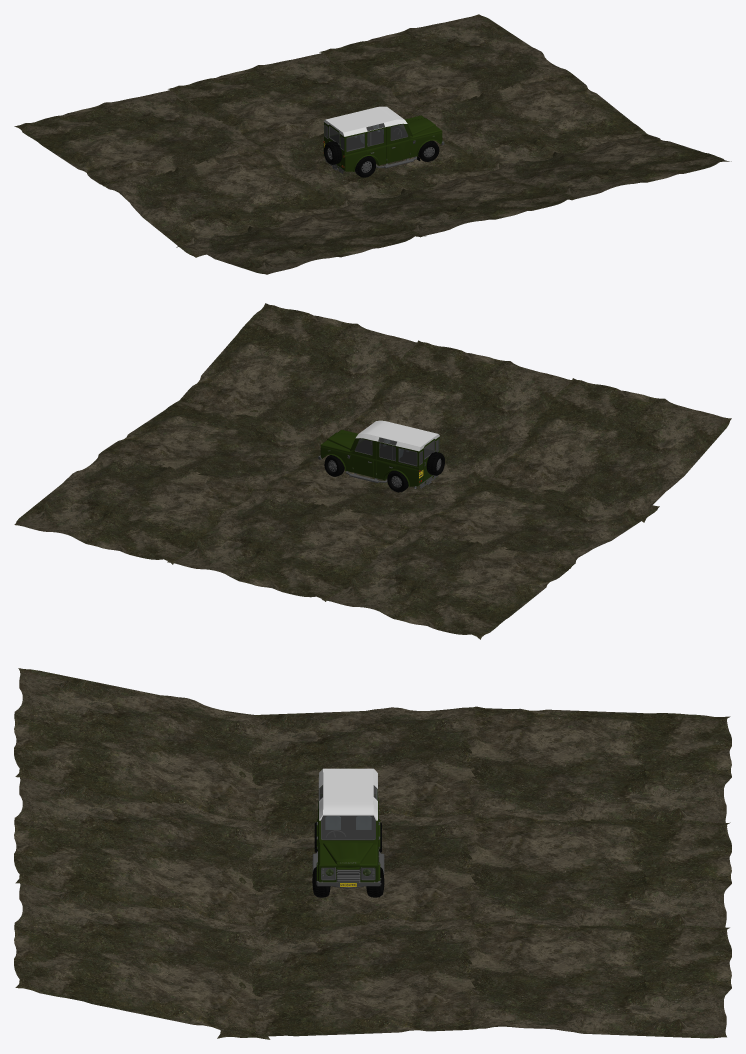
The model's file is defender.glb.
3 views of the same model, one above another, from view 1: azimuth 30°, elevation 25°; view 2: azimuth 150°, elevation 25°; view 3: azimuth 270°, elevation 25° (orthographic). The views are drawn at different scales.
Visible parts, largest first — view 1: pPlane10, pCube149, pPlane11; view 2: pPlane10, pCube149, pPlane11; view 3: pPlane10, pCube149, pPlane11.
Part boxes in pixels (left/top/right/bottom): pPlane10: left=14, top=14, right=731, bottom=274; pCube149: left=323, top=106, right=442, bottom=171; pPlane11: left=327, top=124, right=407, bottom=150; pPlane10: left=14, top=303, right=731, bottom=639; pCube149: left=320, top=420, right=439, bottom=486; pPlane11: left=355, top=438, right=433, bottom=464; pPlane10: left=14, top=668, right=731, bottom=1039; pCube149: left=316, top=768, right=380, bottom=882; pPlane11: left=319, top=796, right=376, bottom=843.
Size of the model in its own units: 0.1651 by 0.019 by 0.1552.
Materials: 13 (4 with a texture image).
